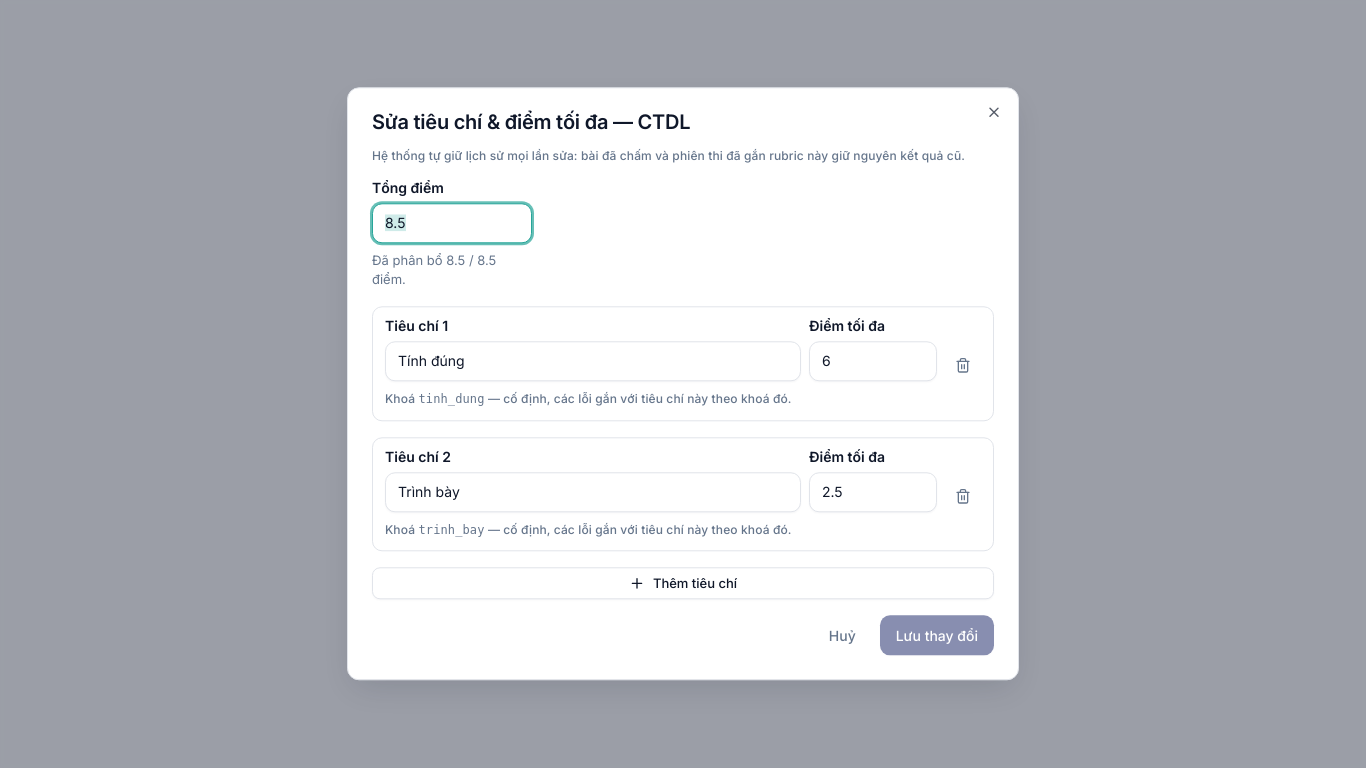
Test case: RubricDialog — sửa tiêu chí & điểm tối đa của một rubric › khoá gõ trùng bị bắt trước khi tới máy chủ
Click the button "Thêm tiêu chí".
click(683, 584)  # box [372, 568, 994, 600]
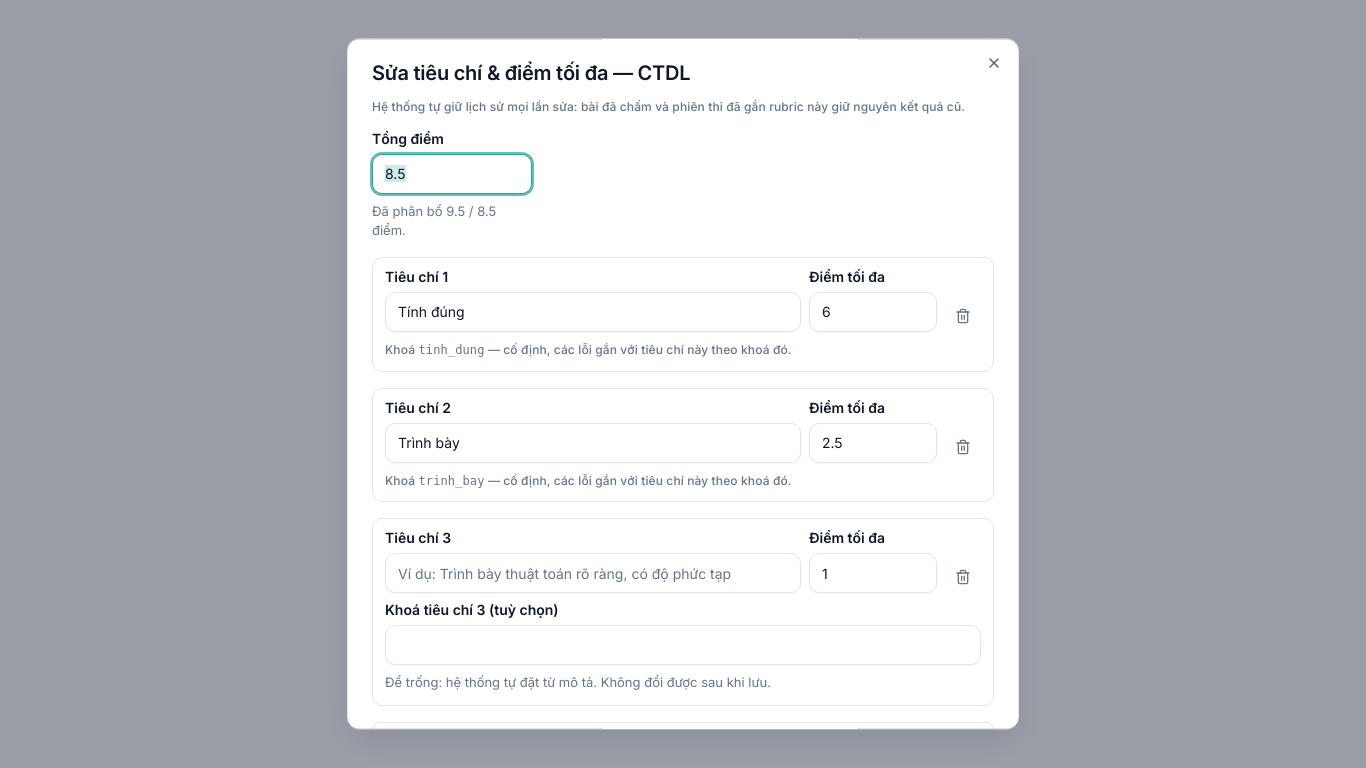
Type "Một tiêu chí mới" into the field labelled "Tiêu chí 3".
click(593, 574); type("Một tiêu chí mới")  # box [385, 554, 801, 594]
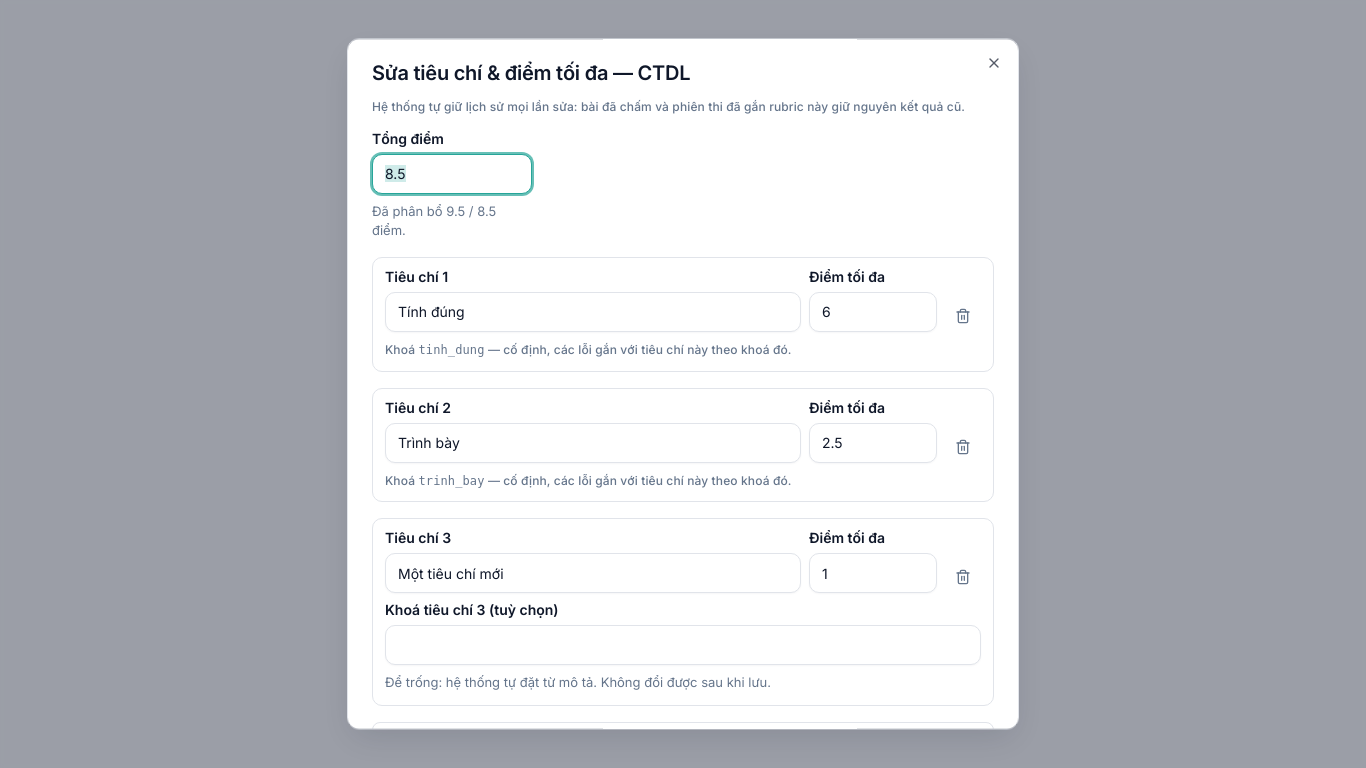
Type "tinh_dung" into the field labelled "Khoá tiêu chí 3 (tuỳ chọn)".
click(683, 646); type("tinh_dung")  # box [385, 626, 981, 666]
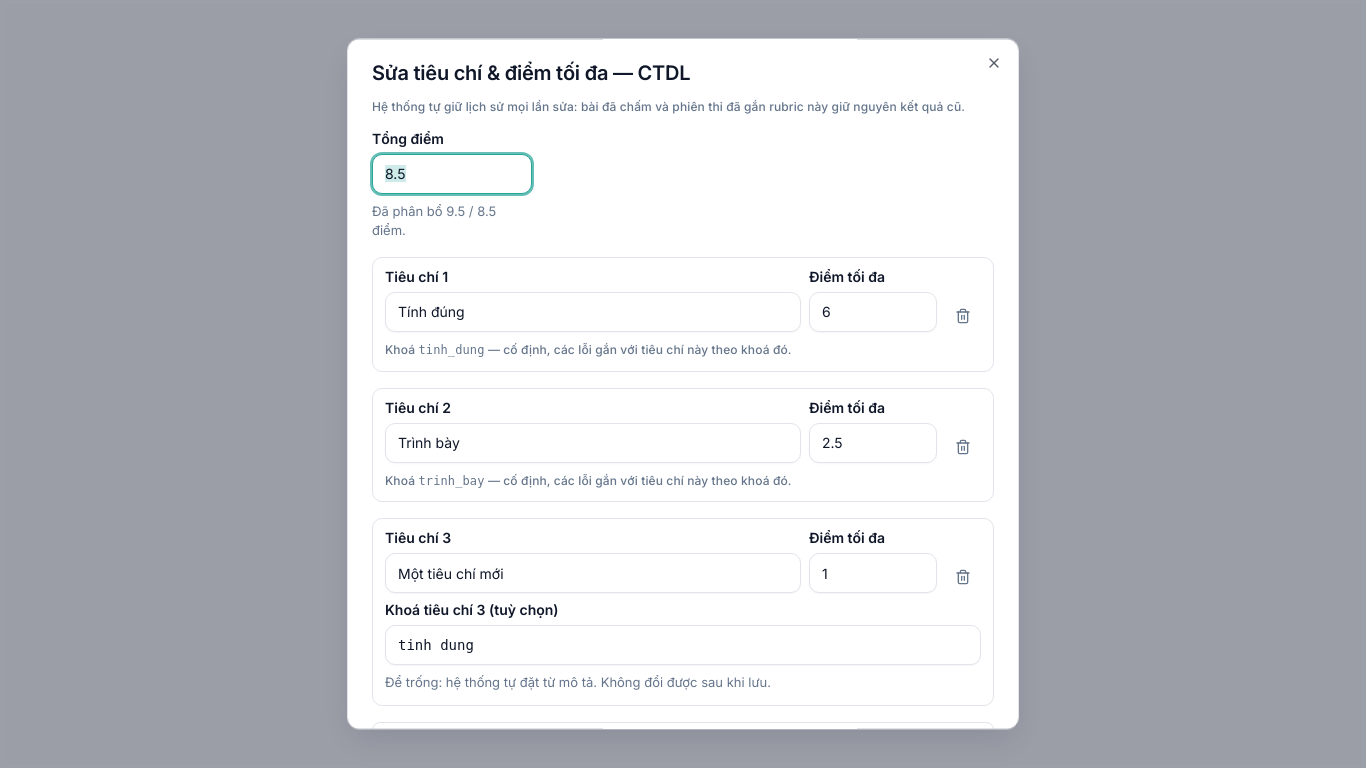
Leave the field labelled "Khoá tiêu chí 3 (tuỳ chọn)", box [385, 626, 981, 666]
(page scrolled)
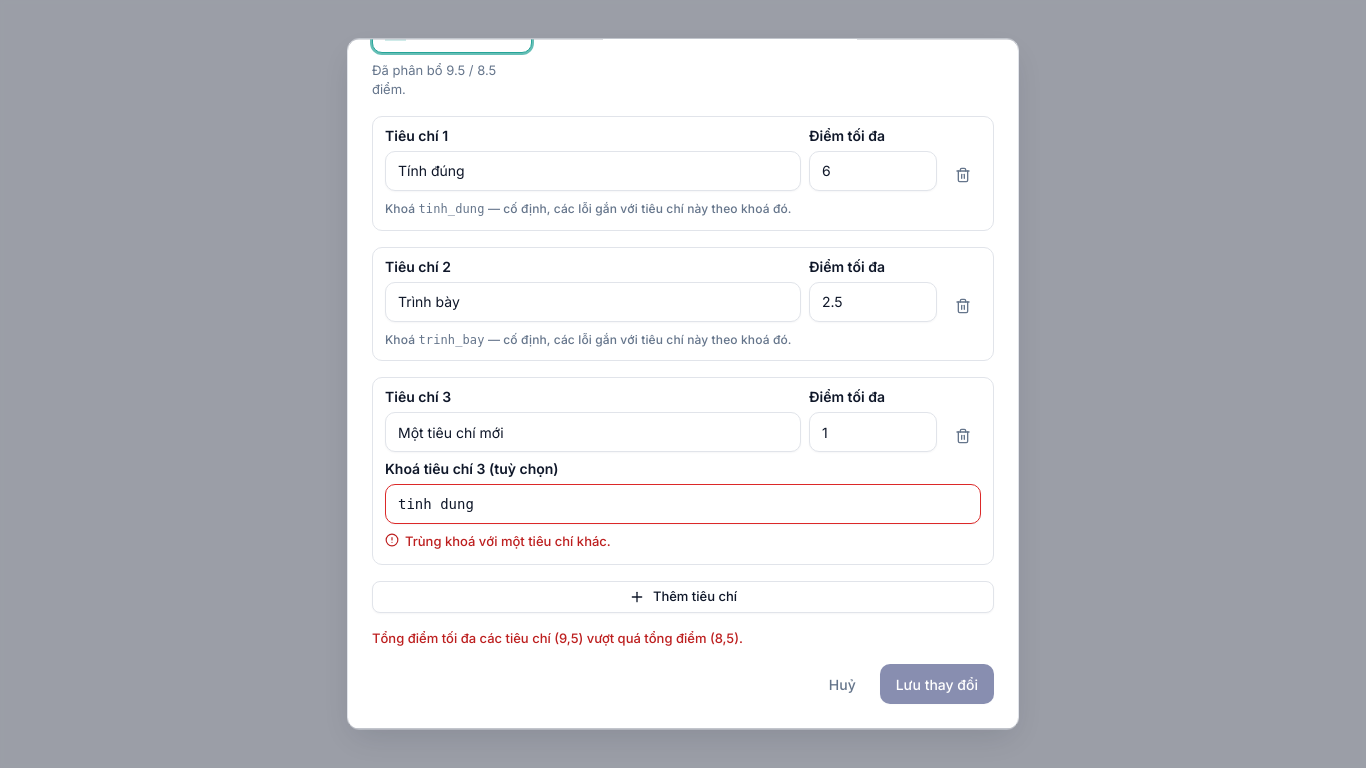
Result: the text "Trùng khoá với một tiêu chí khác." is shown at [385, 534, 611, 550]
Result: the button "Lưu thay đổi" is disabled at [880, 665, 994, 705]
